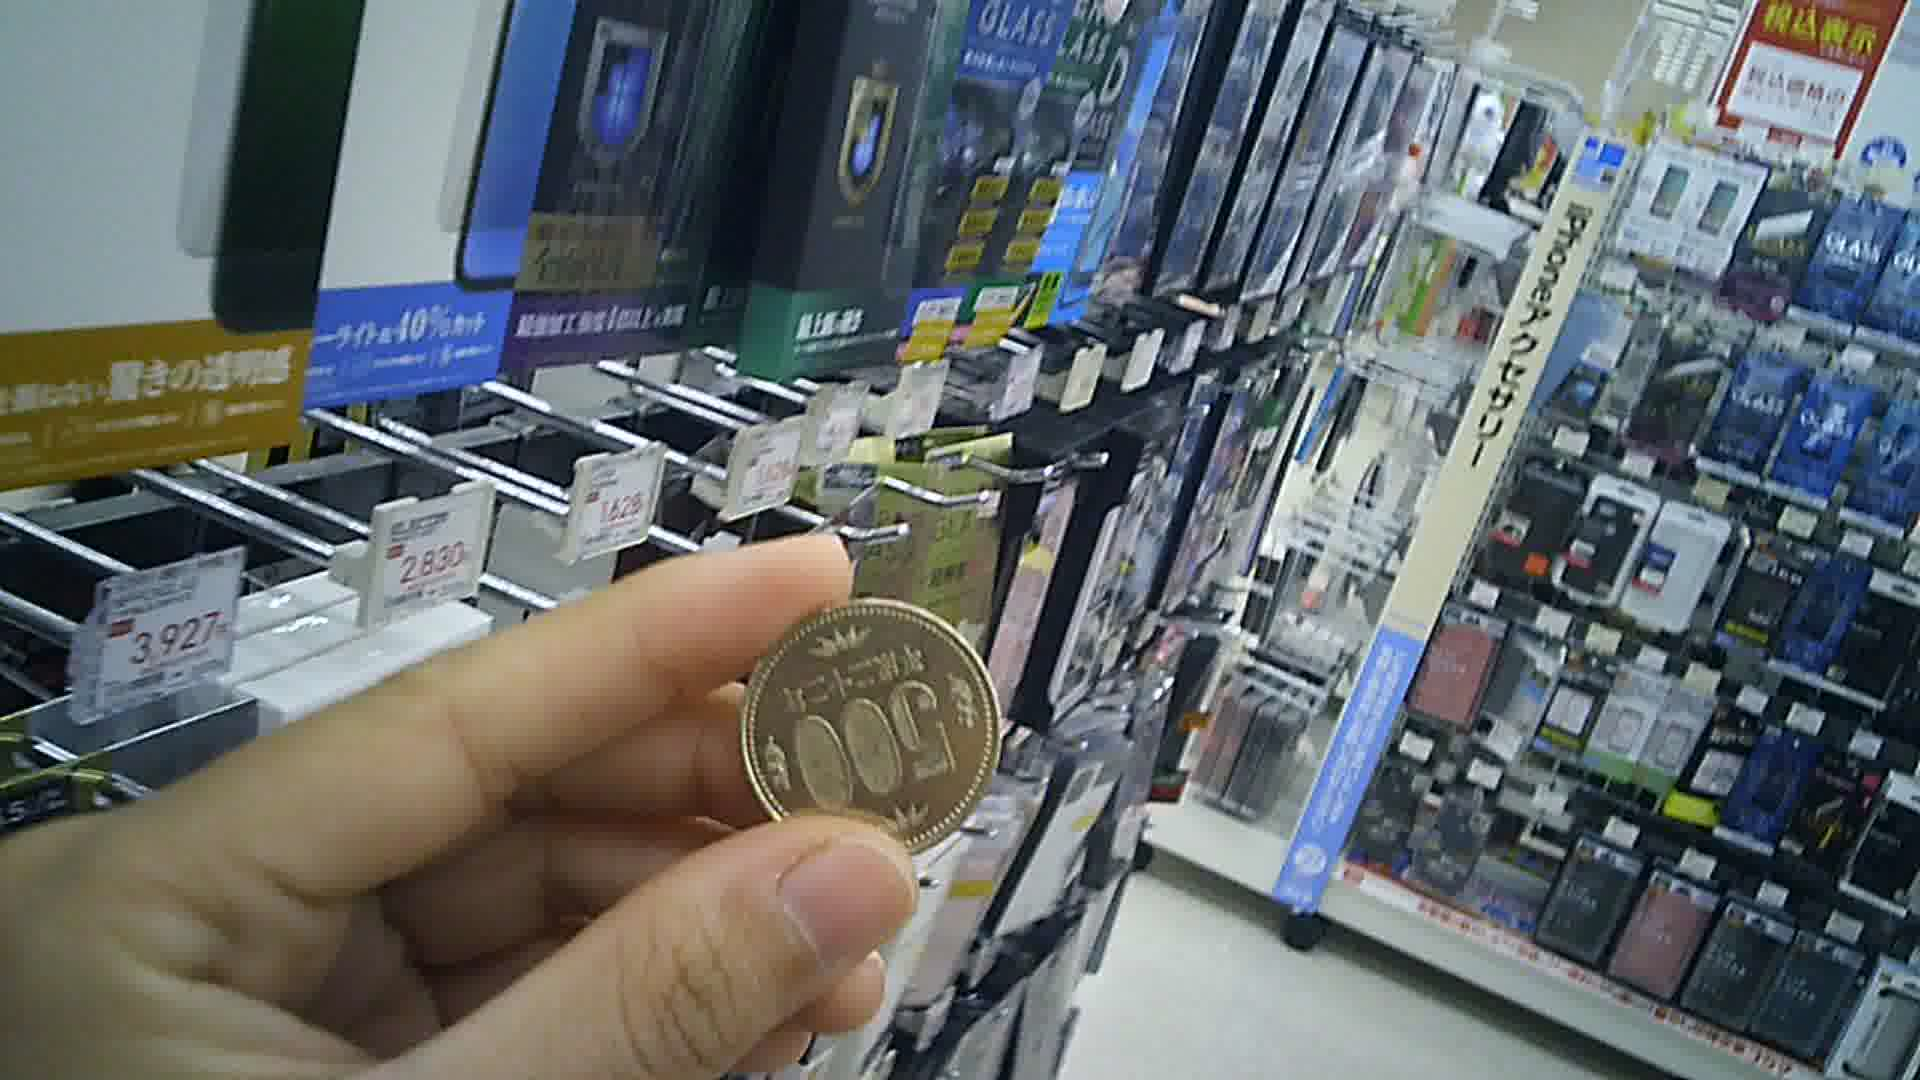500 Yen: (744, 593, 1005, 860)
